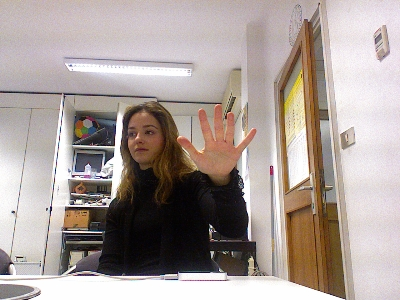布: (174, 101, 258, 176)
